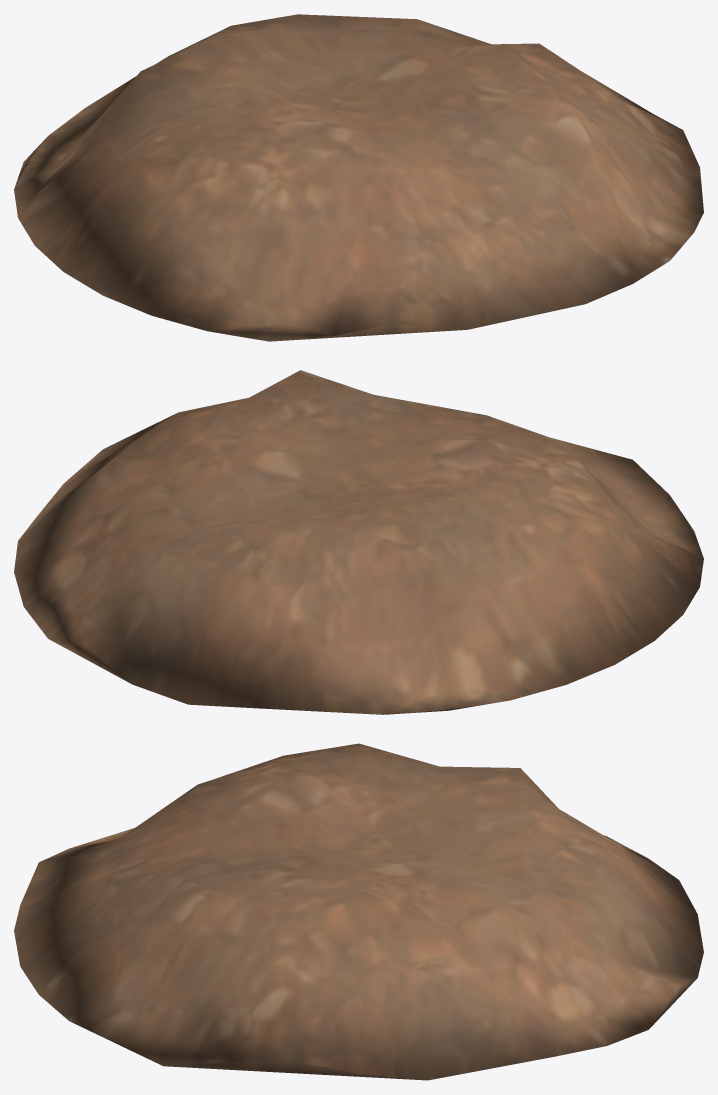
The model's file is mUD.glb.
3 views of the same model, one above another, from view 1: azimuth 30°, elevation 25°; view 2: azimuth 150°, elevation 25°; view 3: azimuth 270°, elevation 25° (orthographic).
Visible parts, largest first — view 1: defaultMaterial; view 2: defaultMaterial; view 3: defaultMaterial.
Part boxes in pixels (left/top/right/bottom): defaultMaterial: left=14, top=14, right=703, bottom=341; defaultMaterial: left=14, top=370, right=703, bottom=714; defaultMaterial: left=14, top=743, right=703, bottom=1080.
Bounding box in the file's own units: 1.89 × 0.3937 × 1.89.
Materials: 1 (1 with a texture image).
